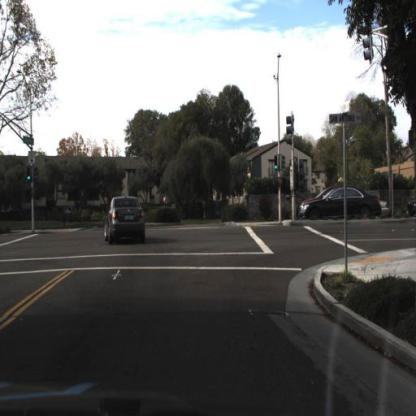car: (296, 182, 387, 234), (267, 186, 325, 235), (103, 193, 148, 256)
trafficLight-Green: (24, 164, 32, 187), (274, 154, 280, 172)
